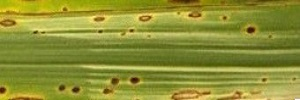RiceBrownSpot: (2, 3, 259, 43), (1, 66, 272, 100)
